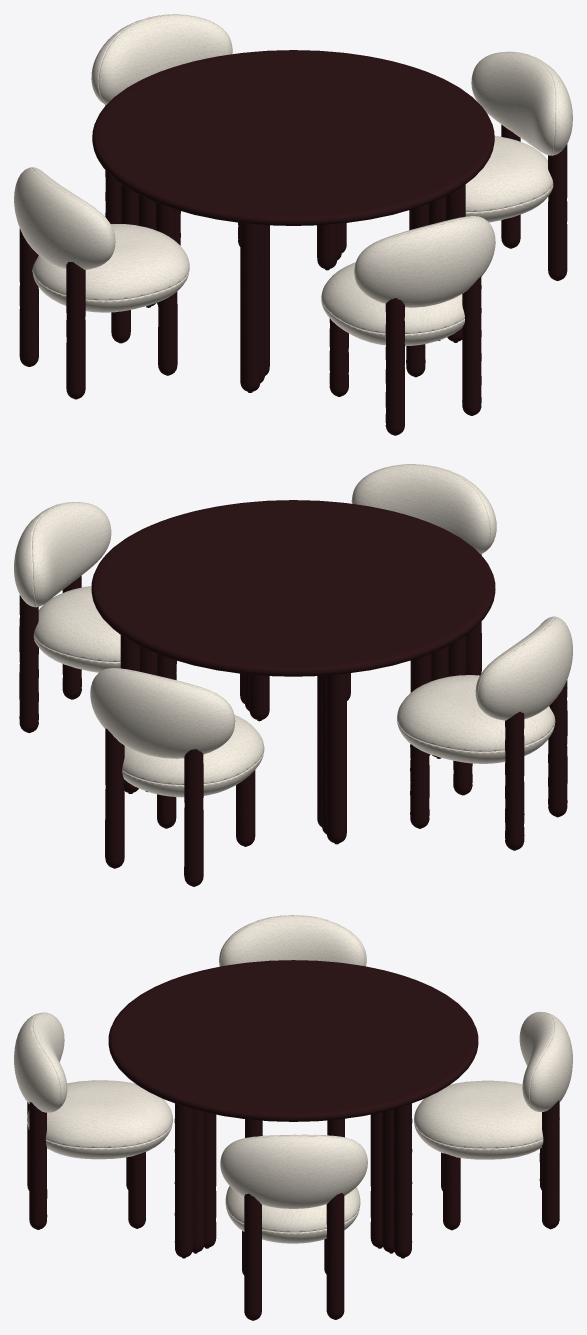
The model's file is noom-dining-table-set.glb.
3 views of the same model, one above another, from view 1: azimuth 30°, elevation 25°; view 2: azimuth 150°, elevation 25°; view 3: azimuth 270°, elevation 25° (orthographic). The views are drawn at different scales.
Parts seen in each view (by area): view 1: Table, chair.002, chair.003, chair.004, chair.001; view 2: Table, chair.001, chair.003, chair.004, chair.002; view 3: Table, chair.004, chair.001, chair.002, chair.003.
Part boxes in pixels (x1,y1,x2,y2): Table: (92,50,494,392); chair.002: (321,216,495,435); chair.003: (14,167,189,399); chair.004: (409,51,572,280); chair.001: (91,14,240,246); Table: (91,500,495,844); chair.001: (90,668,264,886); chair.003: (397,616,572,850); chair.004: (14,502,176,732); chair.002: (347,464,496,700); Table: (108,960,478,1258); chair.004: (220,1134,367,1320); chair.001: (414,1011,572,1230); chair.002: (14,1012,172,1229); chair.003: (219,915,366,1137).
Size of the model in its own units: 2.4 by 0.8798 by 2.4.
3 materials, 1 textured.
